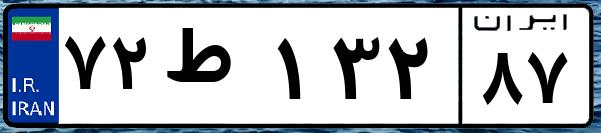1: (270, 28, 330, 110)
2: (385, 28, 445, 110), (110, 28, 158, 98)
3: (330, 28, 385, 110)
7: (57, 26, 110, 100), (525, 38, 570, 115)
8: (475, 38, 525, 113)
ط: (158, 20, 270, 120)
